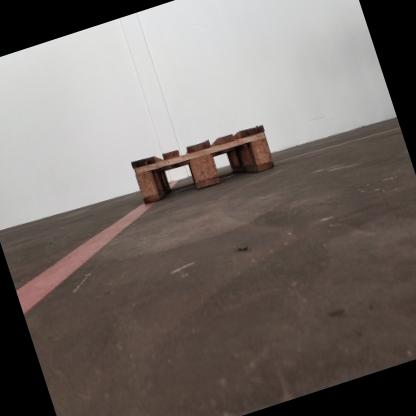BoxFace: (128, 120, 278, 208)
